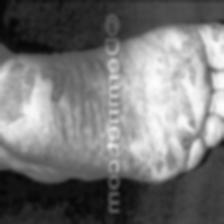Non-Cancerous Skin Condition: (0, 56, 67, 124), (164, 28, 197, 148), (130, 139, 167, 177)
